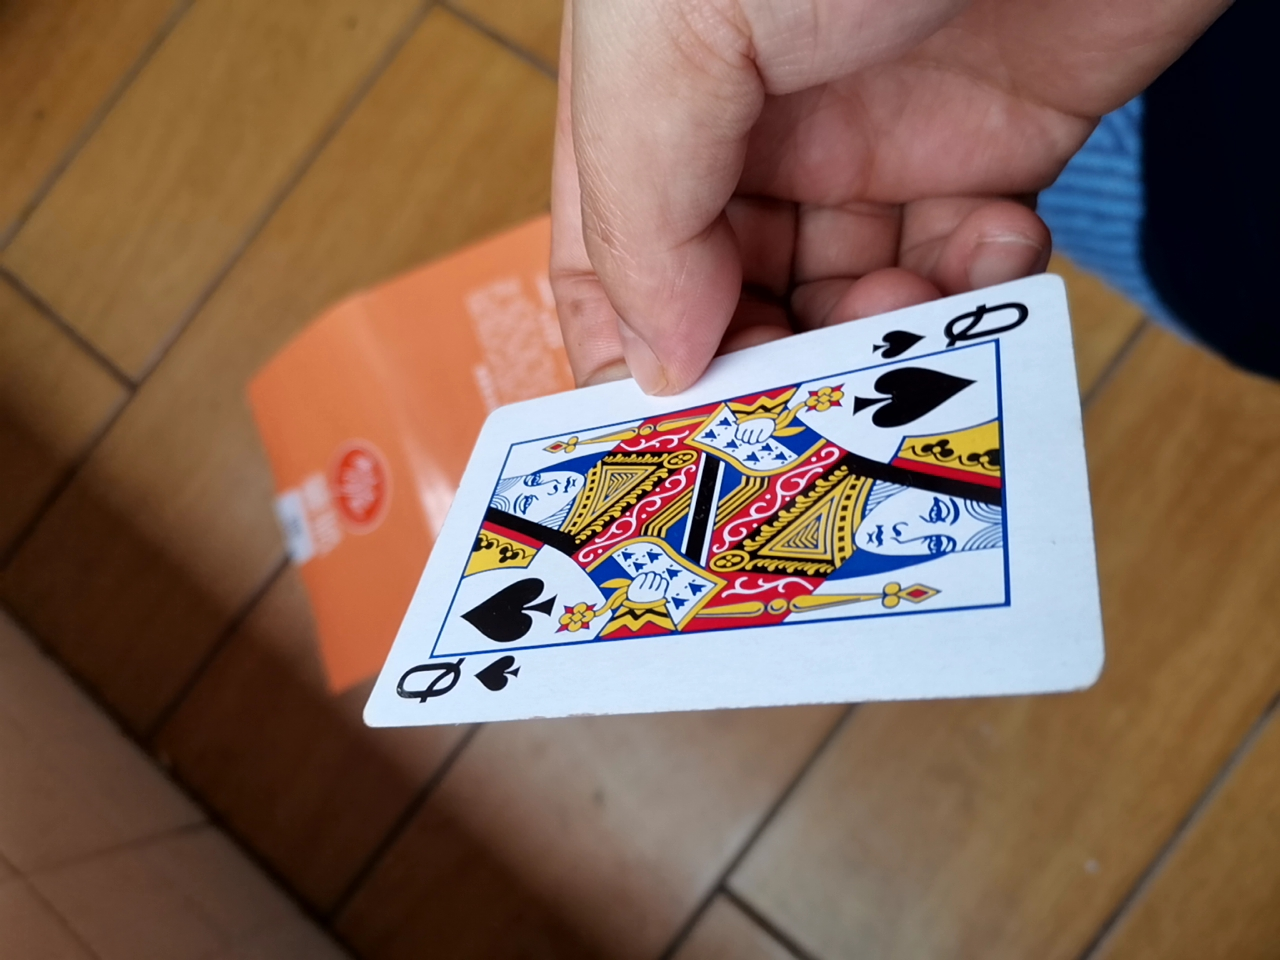ht q: (340, 284, 1104, 735)
